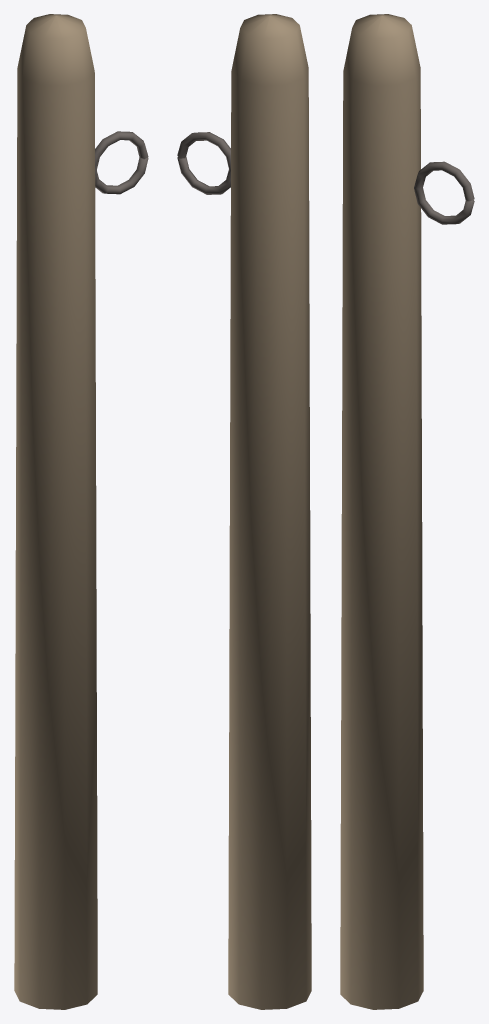
The model's file is wood_post.glb.
3 renders of one model, left to right at view 1: azimuth 30°, elevation 25°; view 2: azimuth 150°, elevation 25°; view 3: azimuth 330°, elevation 25°, orthographic.
Parts seen in each view (by area): view 1: WoodPost; view 2: WoodPost; view 3: WoodPost.
Part boxes in pixels (<box>): WoodPost: <box>14,14,148,1009</box>; WoodPost: <box>177,14,311,1009</box>; WoodPost: <box>340,14,474,1009</box>.
Size of the model in its own units: 0.2473 by 1.8 by 0.1331.
